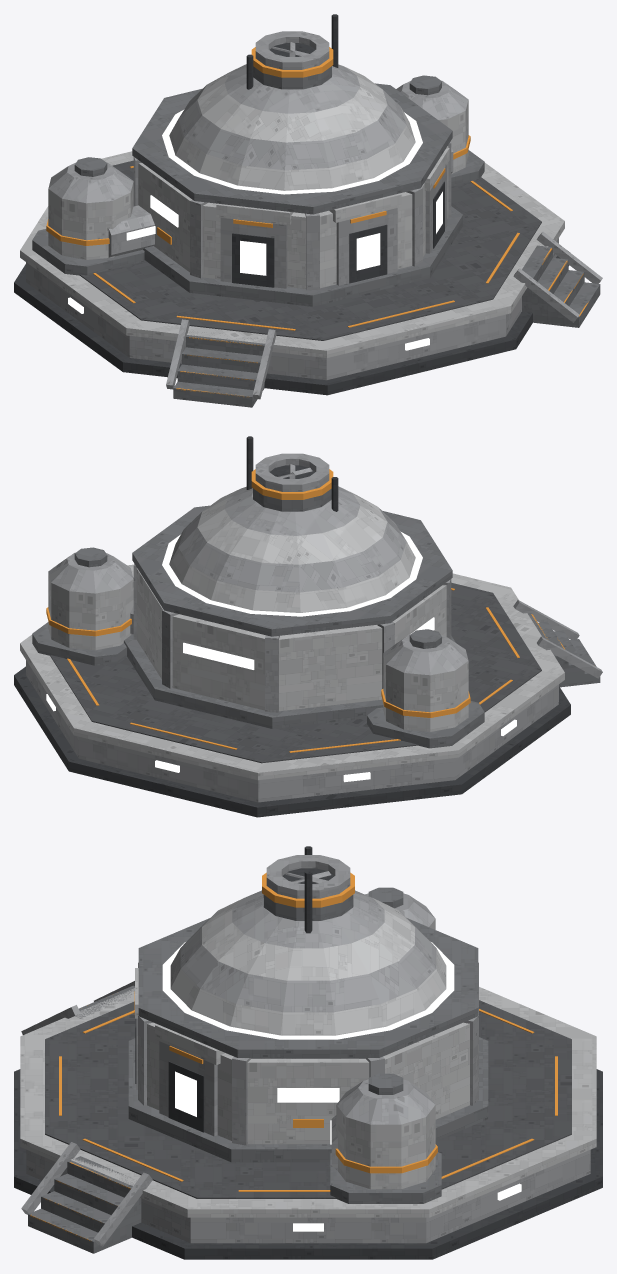
The model's file is habitat_ii_lod1.glb.
3 renders of one model, top to bottom at view 1: azimuth 30°, elevation 25°; view 2: azimuth 150°, elevation 25°; view 3: azimuth 270°, elevation 25°, orthographic. The views are drawn at different scales.
Parts seen in each view (by area): view 1: habitat_ii_base_body.001, habitat_ii_base_glow.001, habitat_ii_base_trim.001; view 2: habitat_ii_base_body.001, habitat_ii_base_glow.001, habitat_ii_base_trim.001; view 3: habitat_ii_base_body.001, habitat_ii_base_glow.001, habitat_ii_base_trim.001.
Part boxes in pixels (x1,y1,x2,y2): habitat_ii_base_body.001: (14, 14, 602, 407); habitat_ii_base_glow.001: (68, 109, 442, 350); habitat_ii_base_trim.001: (46, 47, 588, 397); habitat_ii_base_body.001: (14, 436, 602, 817); habitat_ii_base_glow.001: (46, 531, 516, 782); habitat_ii_base_trim.001: (46, 469, 564, 752); habitat_ii_base_body.001: (14, 846, 602, 1259); habitat_ii_base_glow.001: (162, 942, 521, 1231); habitat_ii_base_trim.001: (30, 872, 557, 1241).
Size of the model in its own units: 3.8 by 2.04 by 3.8.
Materials: 3 (1 with a texture image).
